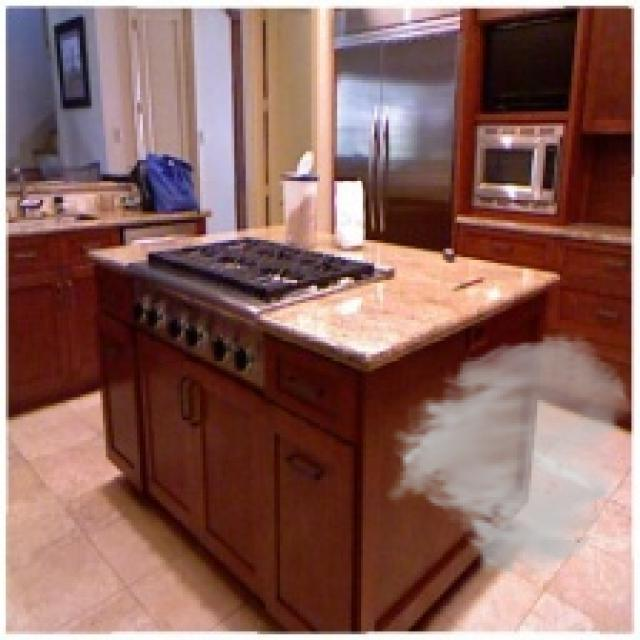smoke: (383, 331, 634, 580)
